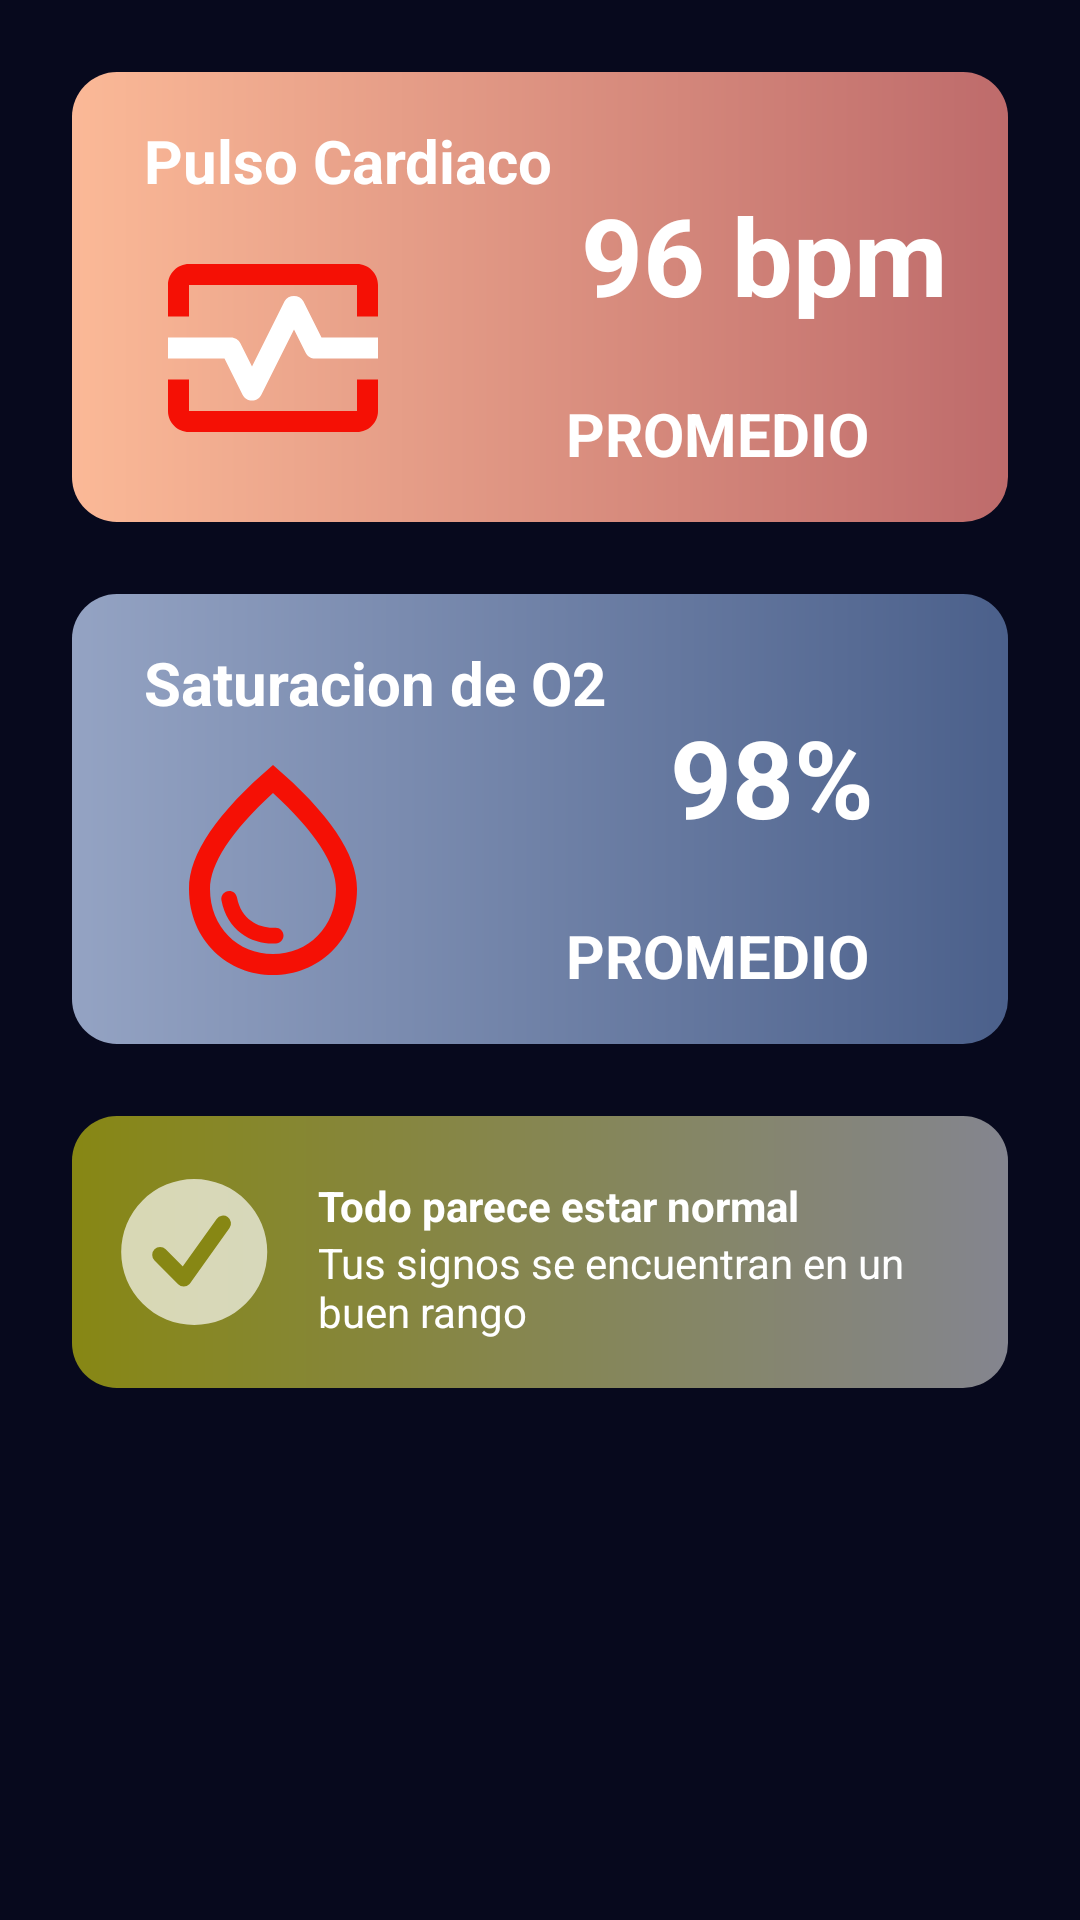

Icons on this 1080*1920 Android screen, each with its box as region(x1, y1, x2, y2):
monitor heart: region(168, 264, 378, 432)
tick: region(121, 1179, 268, 1325)
water drop: region(189, 744, 402, 996)
